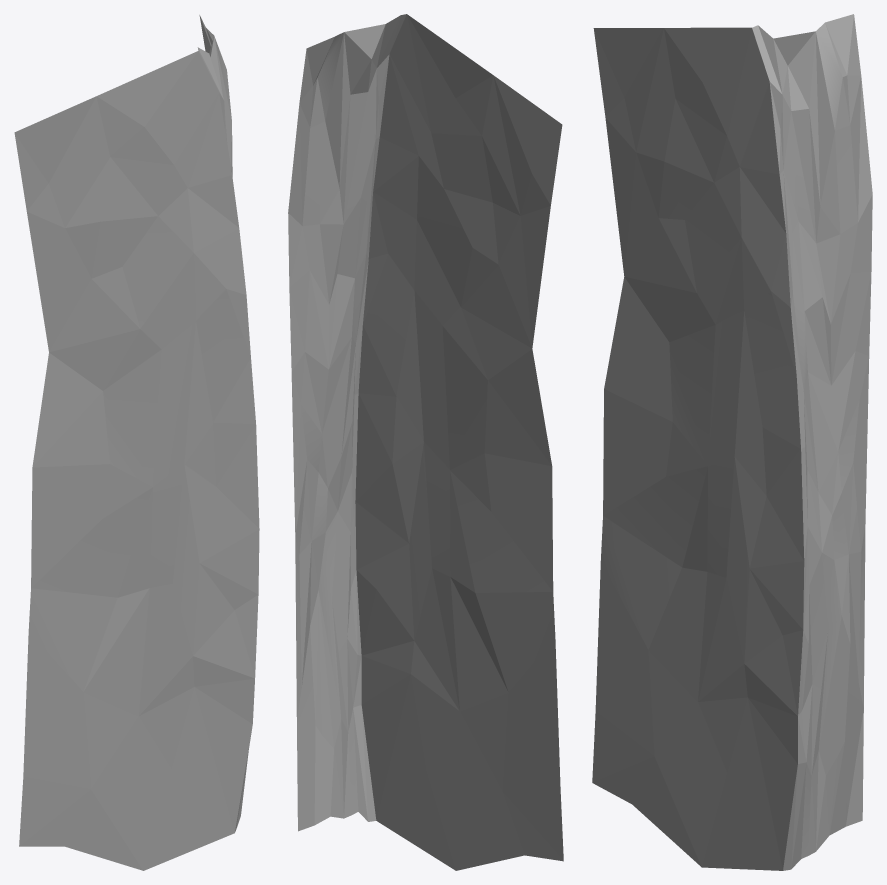
The model's file is cliff_right.dae.
3 views of the same model, side by side, from view 1: azimuth 30°, elevation 25°; view 2: azimuth 150°, elevation 25°; view 3: azimuth 330°, elevation 25° (orthographic). The views are drawn at different scales.
Visible parts, largest first — view 1: Cliff_02; view 2: Cliff_02; view 3: Cliff_02.
Boxes of the visible parts, x1,y1,x2,y2 form: Cliff_02: [14, 15, 259, 870]; Cliff_02: [288, 14, 563, 870]; Cliff_02: [592, 14, 872, 870].
Size of the model in its own units: 1.85 by 0.7423 by 6.11.
1 material, 1 textured.
